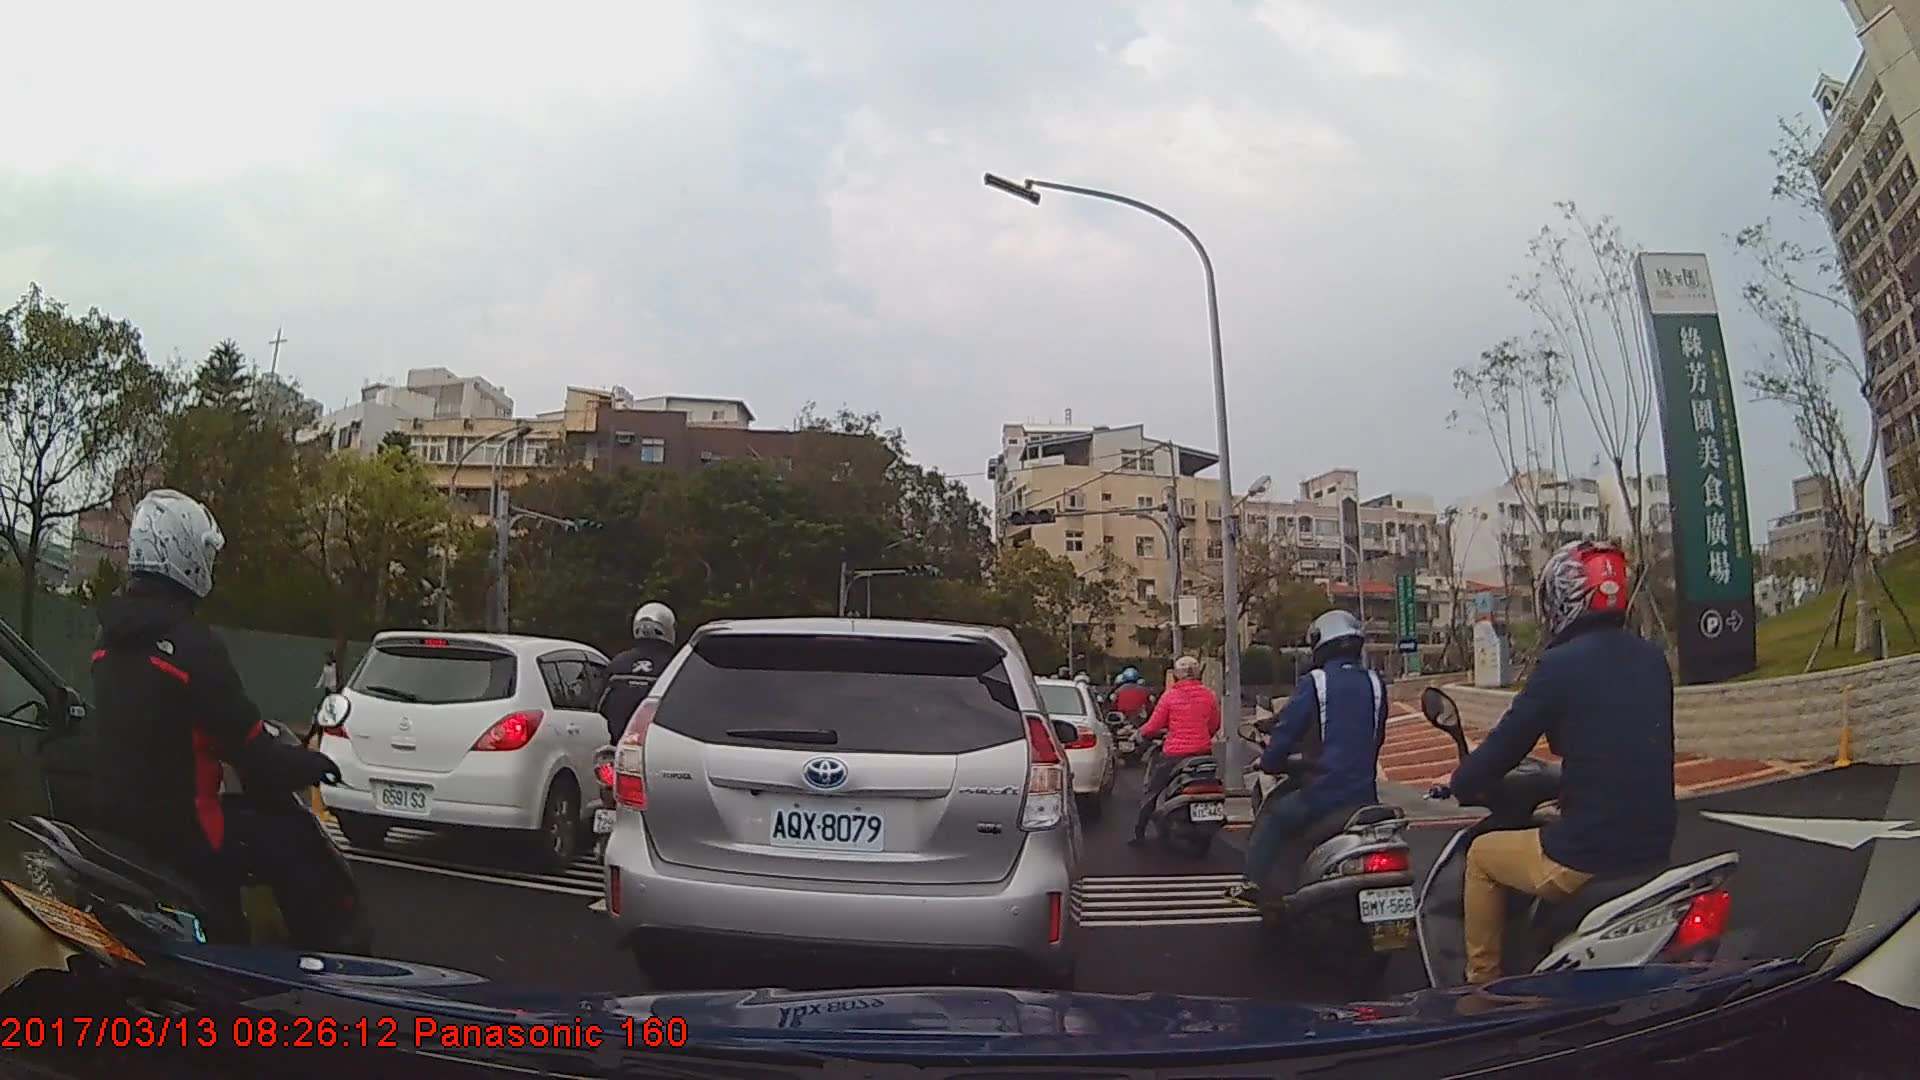pedestrian: (317, 653, 345, 729)
rider: (1, 487, 384, 1043), (1419, 530, 1748, 1061), (1242, 614, 1416, 999), (595, 598, 715, 905), (1133, 656, 1231, 861), (1107, 666, 1152, 766)
vehicle: (604, 615, 1084, 1032), (319, 629, 650, 870), (1008, 677, 1115, 812)
